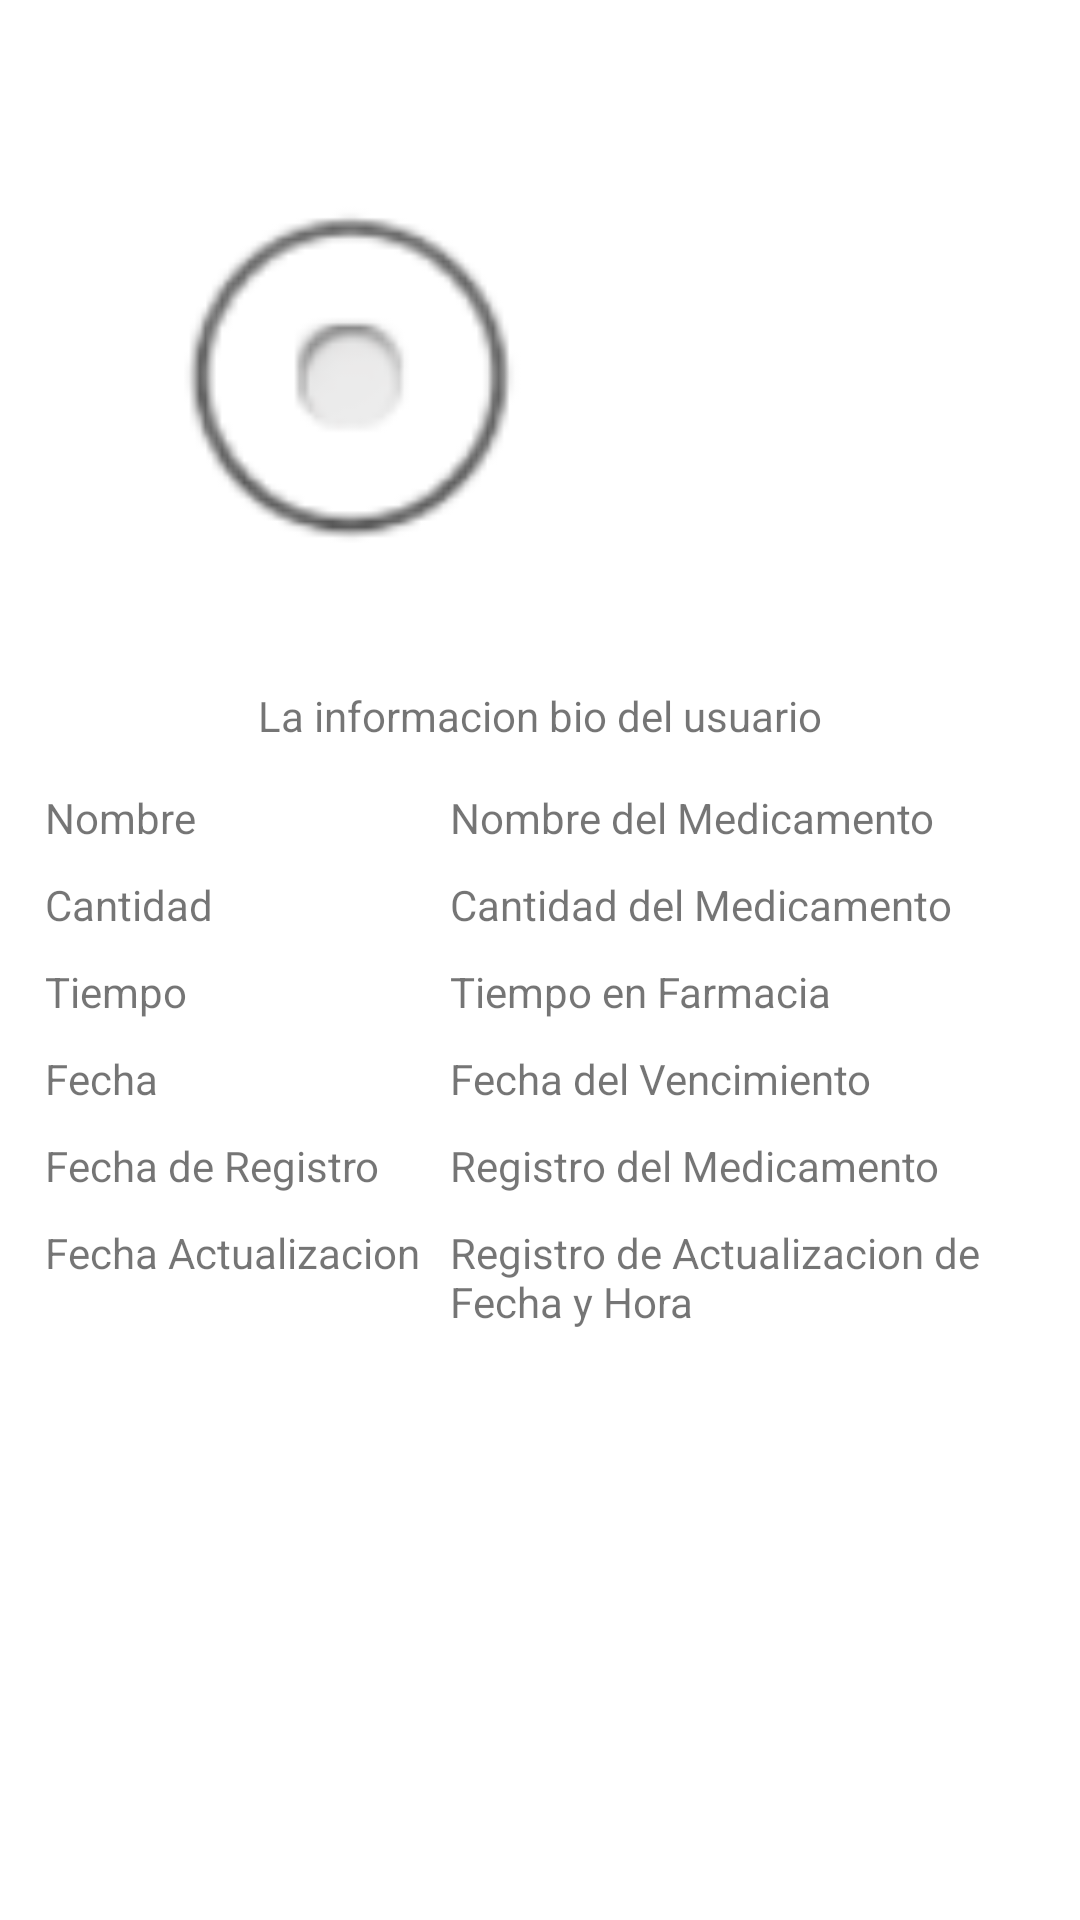

Named icons in this screenshot (1080w x 1920h) and their centers, (x,y):
radio: (349,377)
